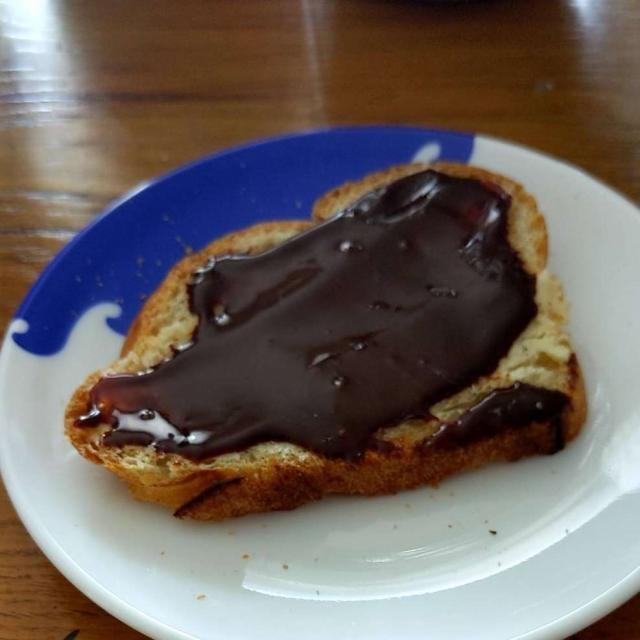bread: (80, 166, 564, 498)
yeast-spread: (91, 173, 547, 482)
